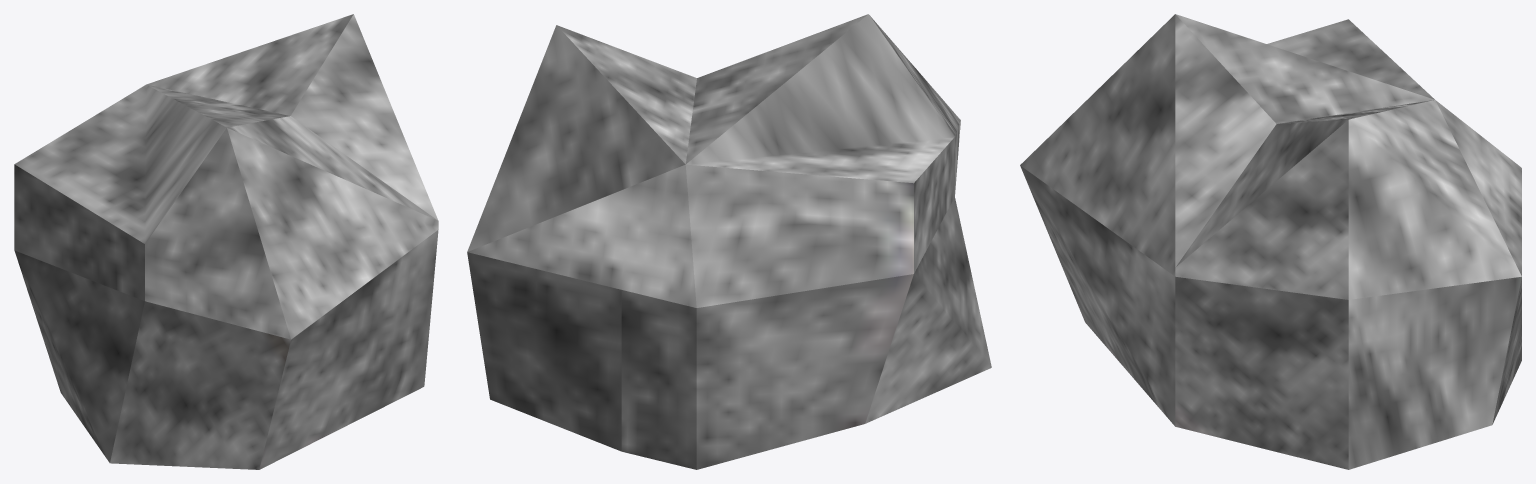
Rendered from Stone_1.fbx.
3 views of the same model, side by side, from view 1: azimuth 30°, elevation 25°; view 2: azimuth 150°, elevation 25°; view 3: azimuth 270°, elevation 25° (orthographic). The views are drawn at different scales.
Visible parts, largest first — view 1: Cube; view 2: Cube; view 3: Cube.
Part boxes in pixels (bbox=[...]): Cube: bbox=[14, 14, 438, 469]; Cube: bbox=[467, 14, 991, 469]; Cube: bbox=[1020, 14, 1521, 469].
Bounding box in the file's own units: 241 × 172 × 249.
1 material, 1 textured.
